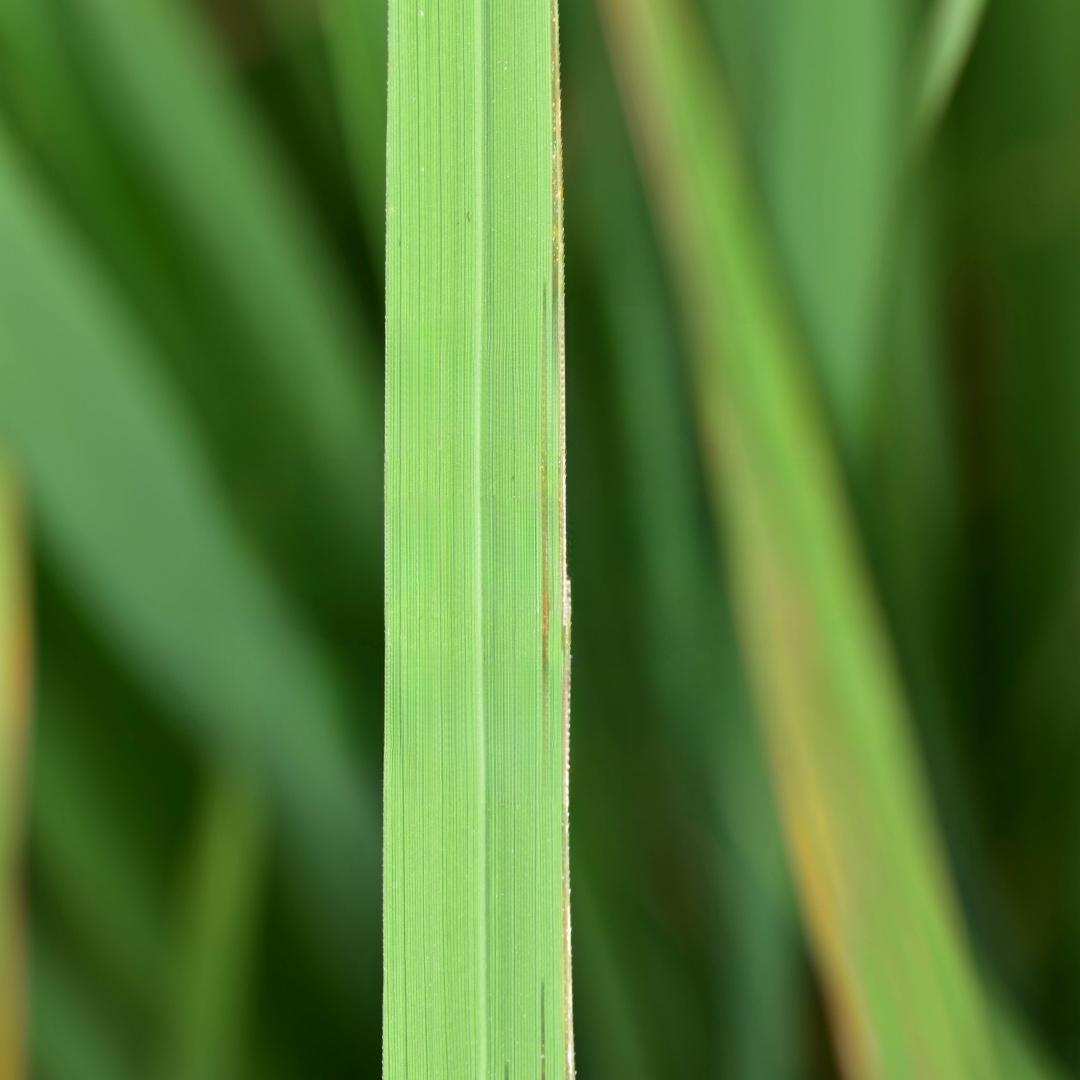BLS: (550, 0, 573, 1079), (541, 283, 549, 681), (541, 981, 545, 1079)
LEAF: (381, 0, 574, 1079)
